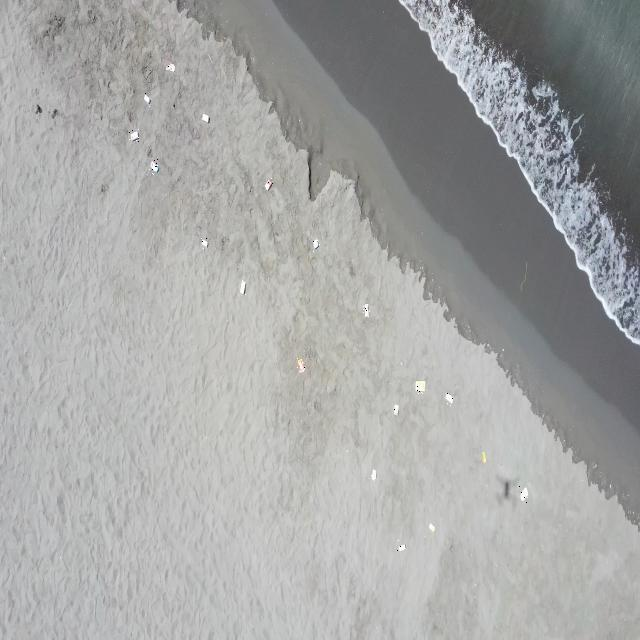retort-pouch: (415, 379, 426, 395), (518, 486, 528, 503), (149, 159, 159, 176), (128, 128, 138, 144), (264, 177, 273, 194), (362, 302, 370, 319), (297, 358, 305, 374), (446, 391, 454, 406), (312, 238, 320, 252), (240, 280, 247, 295), (393, 402, 400, 417), (202, 112, 210, 125), (201, 237, 209, 250), (481, 451, 488, 465), (397, 540, 405, 552), (428, 522, 436, 534), (371, 468, 378, 481), (144, 93, 150, 107), (167, 62, 174, 74)
